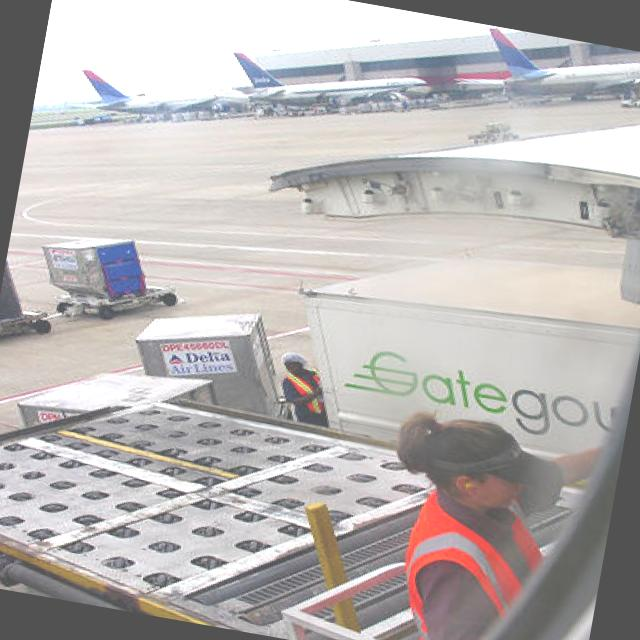Vehicle: (273, 213, 640, 482)
